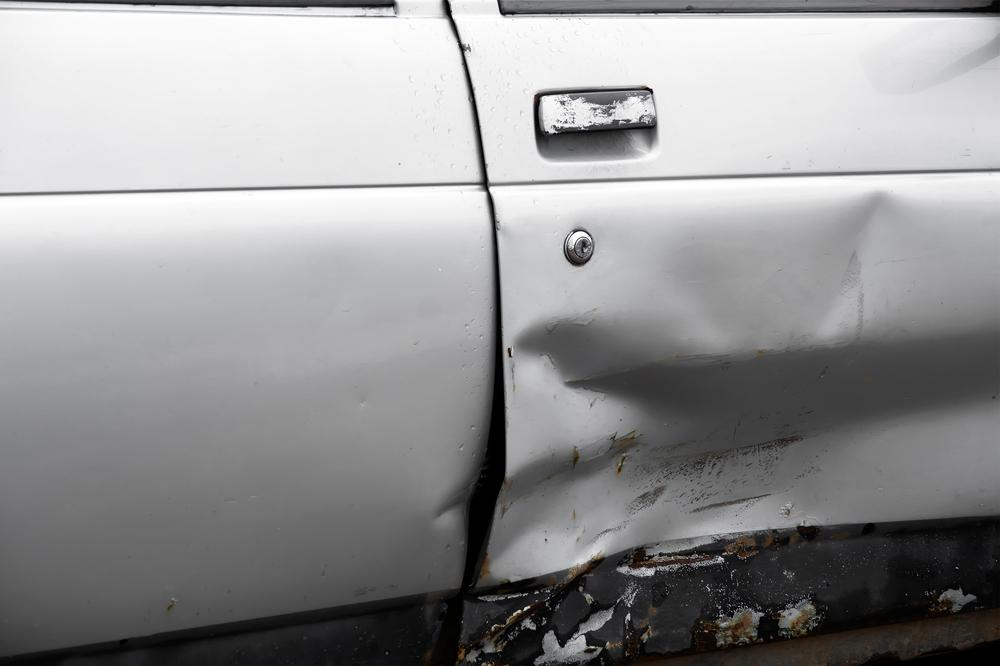dent: (490, 193, 909, 582)
